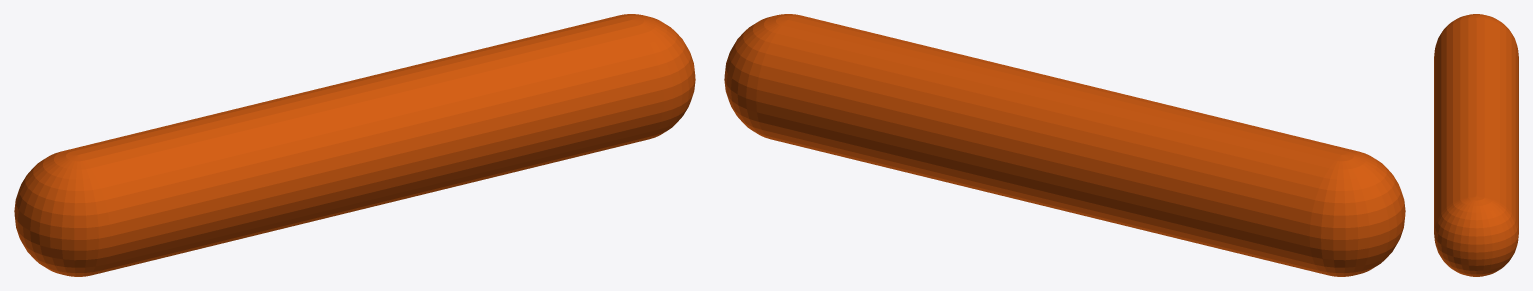
File: parufka.fbx
3 renders of one model, left to right at view 1: azimuth 30°, elevation 25°; view 2: azimuth 150°, elevation 25°; view 3: azimuth 270°, elevation 25°, orthographic. The views are drawn at different scales.
Parts seen in each view (by area): view 1: Sphere.001; view 2: Sphere.001; view 3: Sphere.001.
Boxes of the visible parts, left/top/right/bottom form: Sphere.001: left=14, top=14, right=695, bottom=276; Sphere.001: left=724, top=14, right=1405, bottom=276; Sphere.001: left=1434, top=14, right=1518, bottom=276.
Size of the model in its own units: 1197 by 200 by 200.
